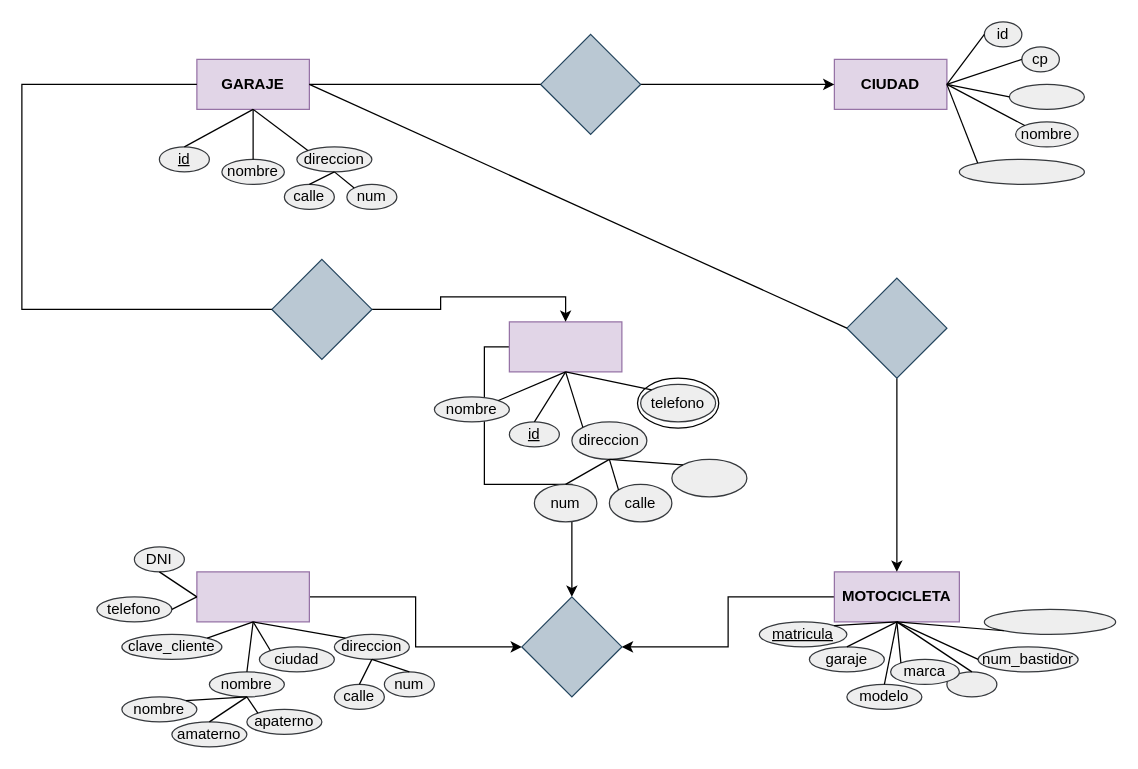
Image size: 1138x769. Some labels were removed from this diagram. The shapes that lost their labels are listed below. From the top down, each one's centre as x and y in pixels, then its label:
[590,83]: reside
[1046,96]: provincia
[1021,171]: num_habitantes
[321,308]: pertenece
[896,327]: almacena
[565,346]: AGENCIA
[709,477]: poblacion
[252,596]: CLIENTE
[1049,621]: fecha_en_garaje
[571,646]: alquila
[971,684]: color
